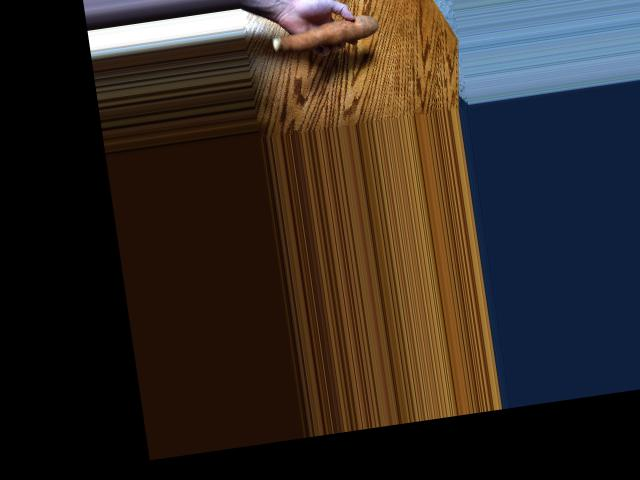sweet_potato: (279, 18, 381, 59)
